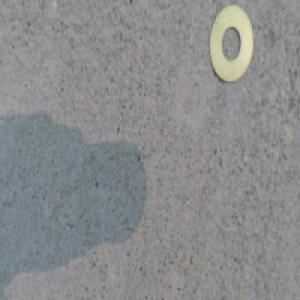Washer: (205, 18, 252, 86)
